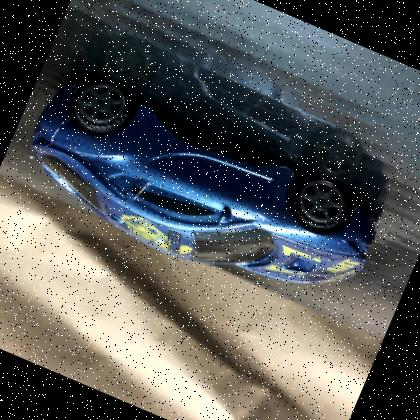Car: (30, 78, 377, 284)
